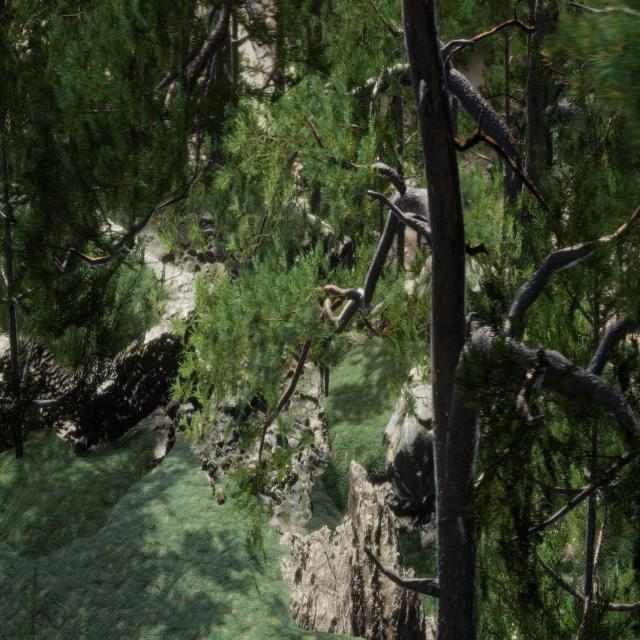Human: (312, 310, 337, 406)
